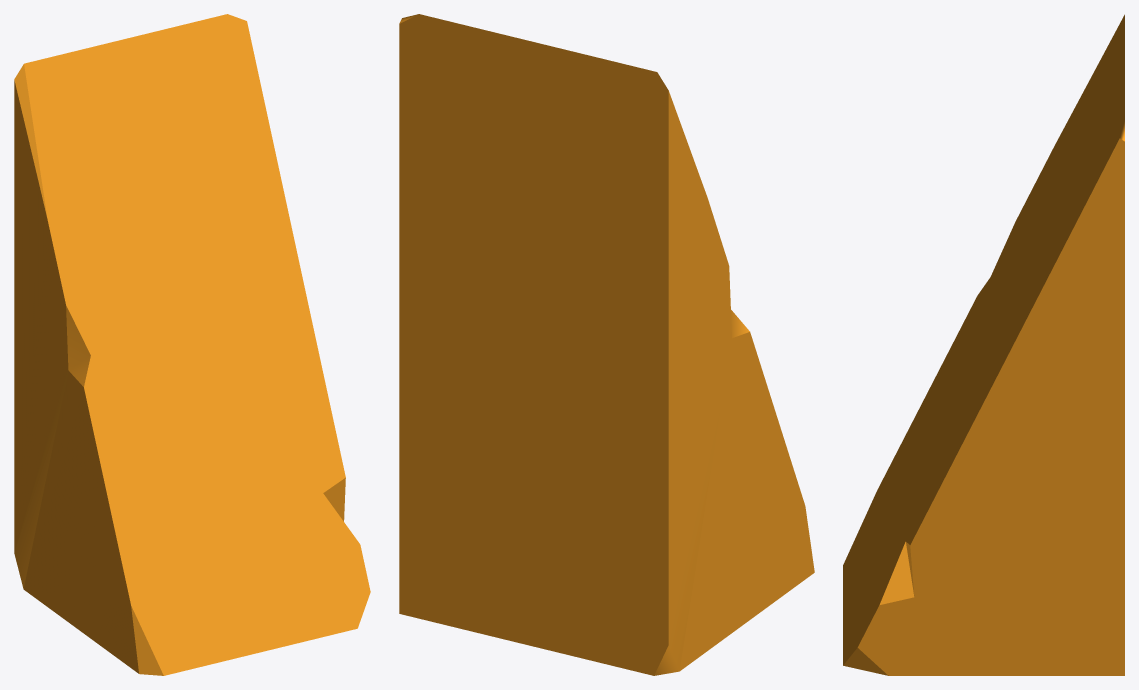
Rendered from SM_Buildings_Ramp_65_1x1_01P.fbx.
3 views of the same model, side by side, from view 1: azimuth 30°, elevation 25°; view 2: azimuth 150°, elevation 25°; view 3: azimuth 270°, elevation 25° (orthographic). The views are drawn at different scales.
Parts seen in each view (by area): view 1: SM_Buildings_Ramp_65_1x1_01P; view 2: SM_Buildings_Ramp_65_1x1_01P; view 3: SM_Buildings_Ramp_65_1x1_01P.
Boxes of the visible parts, box(x1,y1,x2,y2) form: SM_Buildings_Ramp_65_1x1_01P: box(14, 14, 370, 675); SM_Buildings_Ramp_65_1x1_01P: box(399, 14, 814, 675); SM_Buildings_Ramp_65_1x1_01P: box(843, 14, 1124, 675).
Size of the model in its own units: 100 by 214 by 100.
